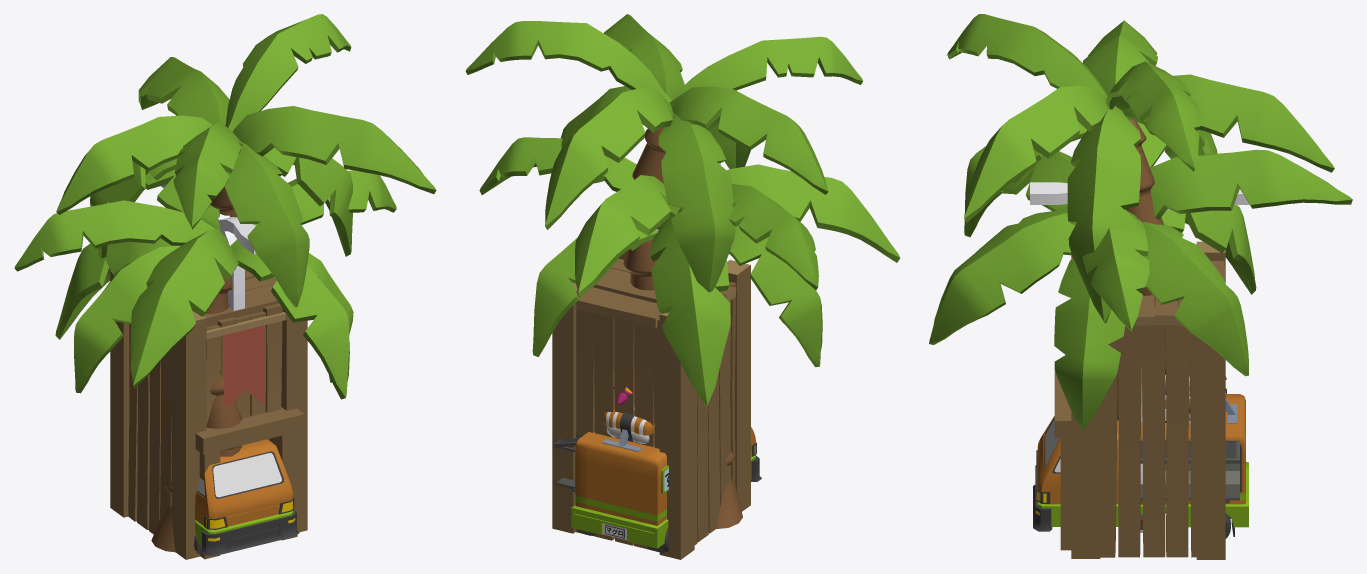
Rendered from props.glb.
The picture shows the model from 3 angles, left to right: view 1: azimuth 30°, elevation 25°; view 2: azimuth 150°, elevation 25°; view 3: azimuth 270°, elevation 25°; orthographic projection. The views are drawn at different scales.
Visible parts, largest first — view 1: Environment_PalmTree_1, Environment_PalmTree_3, WatchTower_FirstAge_Level1, Truck, light-curved, light-curved-double; view 2: Environment_PalmTree_1, Environment_PalmTree_3, WatchTower_FirstAge_Level1, Truck; view 3: Environment_PalmTree_3, Environment_PalmTree_1, WatchTower_FirstAge_Level1, Truck, light-curved-double.
Part boxes in pixels (left/top/right/bottom): Environment_PalmTree_1: left=56, top=14, right=436, bottom=552; Environment_PalmTree_3: left=14, top=169, right=396, bottom=456; WatchTower_FirstAge_Level1: left=110, top=270, right=307, bottom=559; Truck: left=194, top=439, right=299, bottom=555; light-curved: left=218, top=214, right=244, bottom=310; light-curved-double: left=161, top=184, right=256, bottom=254; Environment_PalmTree_1: left=465, top=14, right=862, bottom=528; Environment_PalmTree_3: left=479, top=137, right=900, bottom=407; WatchTower_FirstAge_Level1: left=552, top=252, right=750, bottom=559; Truck: left=553, top=386, right=761, bottom=552; Environment_PalmTree_3: left=929, top=122, right=1352, bottom=430; Environment_PalmTree_1: left=947, top=14, right=1334, bottom=420; WatchTower_FirstAge_Level1: left=1054, top=241, right=1225, bottom=559; Truck: left=1033, top=351, right=1248, bottom=538; light-curved-double: left=1030, top=182, right=1249, bottom=532.
Bounding box in the file's own units: 7.16 × 8.97 × 6.88.
Materials: 10 (4 with a texture image).
